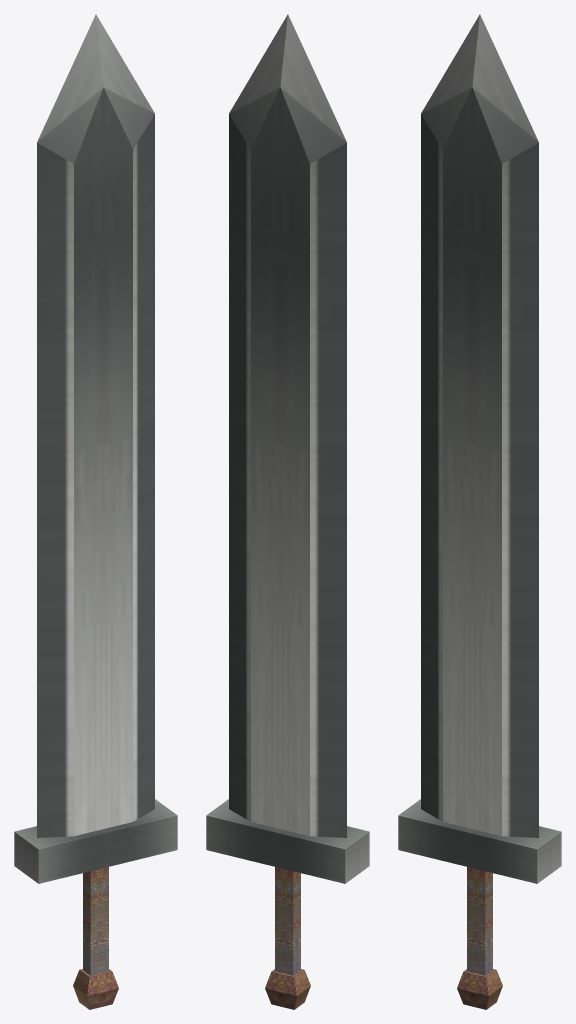
Rendered from player_sword.obj.
The picture shows the model from 3 angles, left to right: view 1: azimuth 30°, elevation 25°; view 2: azimuth 150°, elevation 25°; view 3: azimuth 330°, elevation 25°; orthographic projection.
Visible parts, largest first — view 1: player_sword6:sword6_Sword; view 2: player_sword6:sword6_Sword; view 3: player_sword6:sword6_Sword.
Part boxes in pixels (box(x1,y1,x2,y2)): player_sword6:sword6_Sword: box(14, 14, 177, 1009); player_sword6:sword6_Sword: box(206, 14, 369, 1009); player_sword6:sword6_Sword: box(398, 14, 561, 1009).
Bounding box in the file's own units: 0.6348 × 4.31 × 0.1935.
